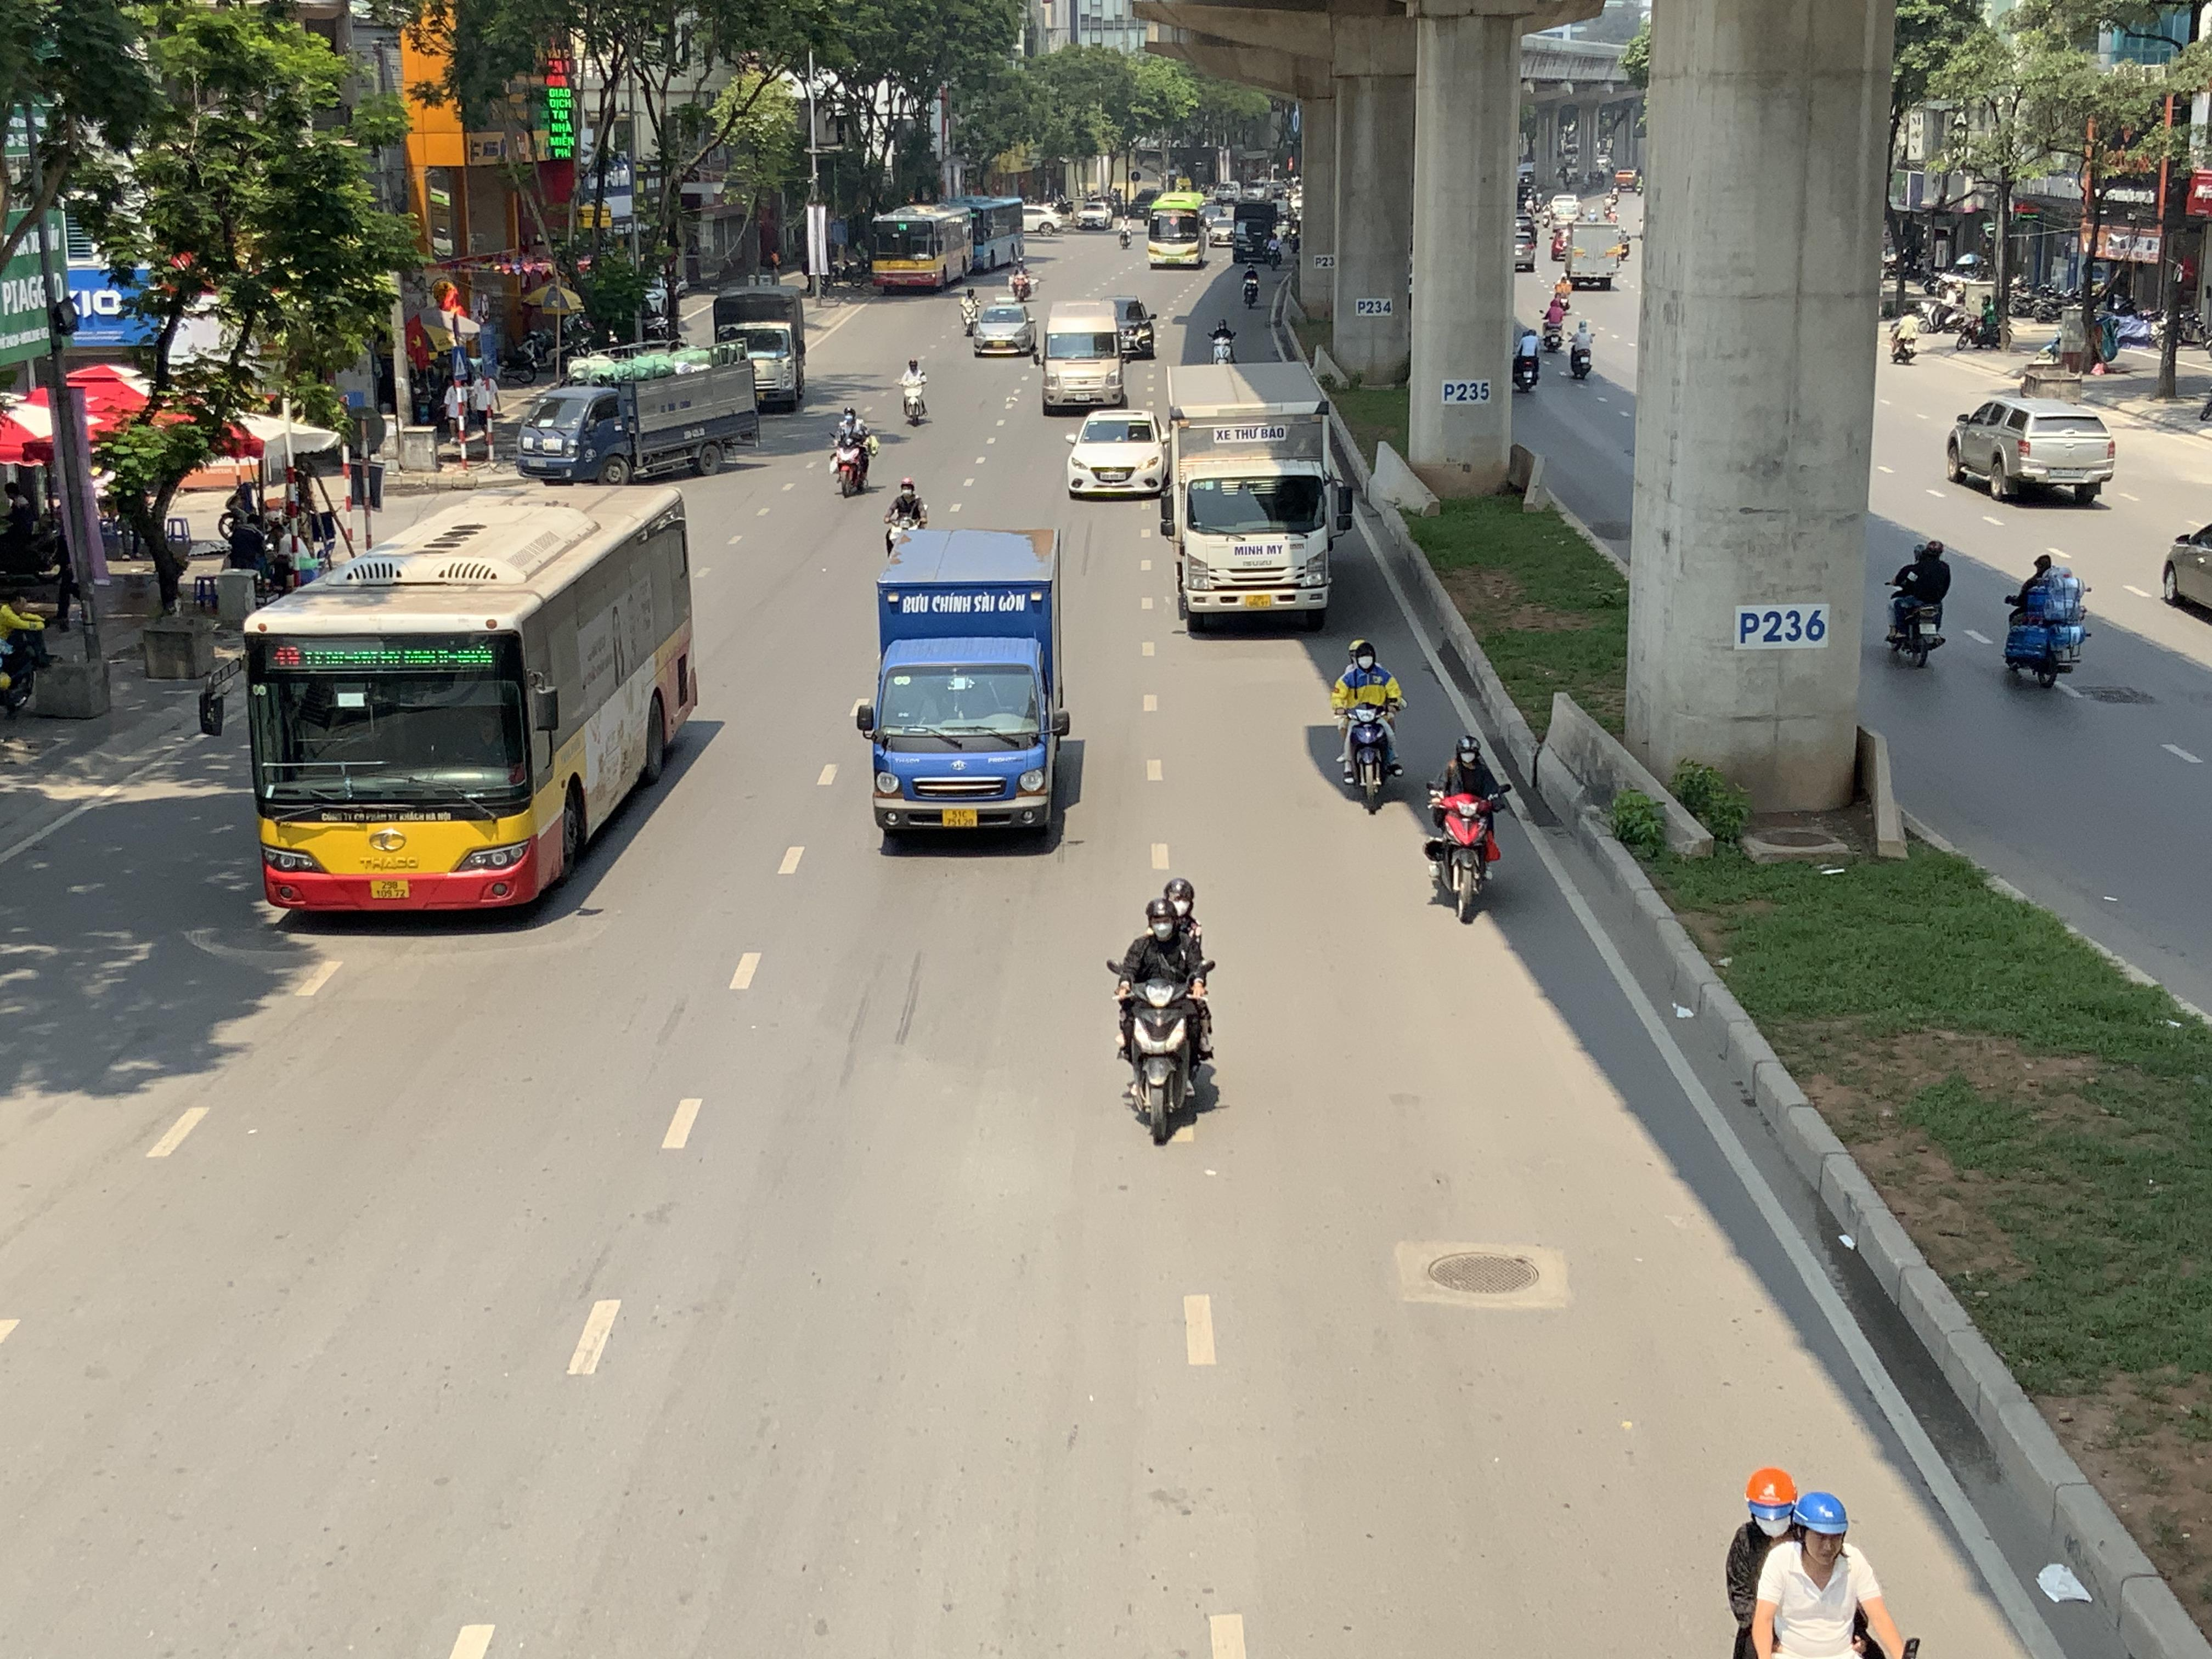BSV: (371, 878, 408, 899), (942, 809, 977, 828), (1245, 594, 1271, 608)
bus: (244, 479, 700, 915), (1040, 300, 1129, 411), (869, 202, 972, 295), (1146, 190, 1211, 270)
car: (1946, 394, 2116, 505), (1066, 408, 1165, 497), (972, 298, 1035, 356)
motorbike: (1740, 1490, 1921, 1659), (1109, 882, 1219, 1148), (1423, 734, 1505, 925), (1331, 640, 1406, 816), (2003, 549, 2090, 690), (1885, 533, 1951, 667), (0, 589, 51, 716), (831, 404, 876, 497), (883, 476, 928, 556), (1956, 291, 2013, 354), (899, 356, 930, 427), (1514, 321, 1541, 394), (1566, 315, 1595, 382), (1890, 301, 1919, 366), (1541, 295, 1568, 352), (1209, 315, 1238, 364), (1240, 261, 1263, 308)
truck: (855, 528, 1080, 850), (1157, 361, 1352, 634), (514, 343, 763, 484), (711, 284, 806, 411)
